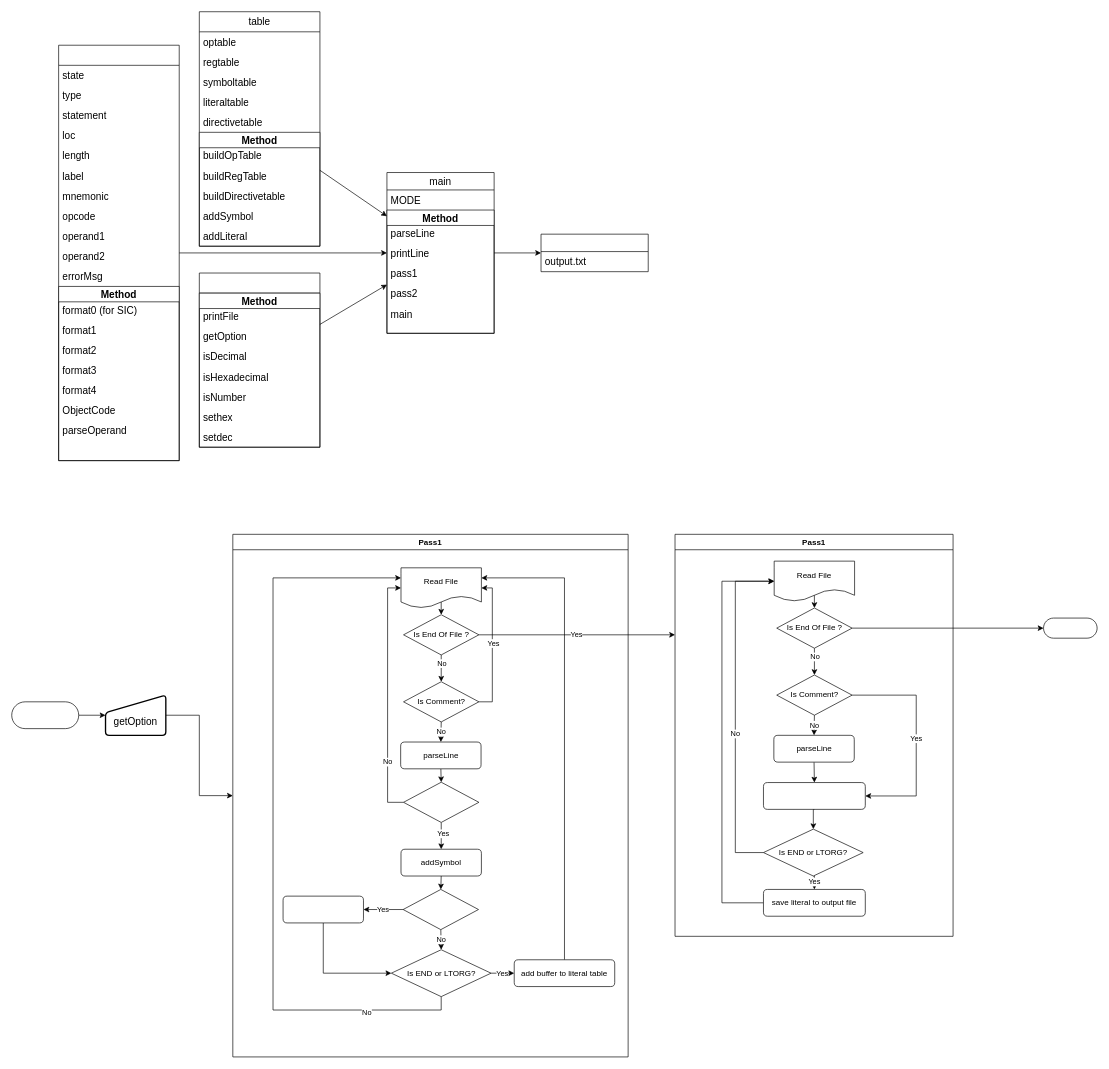
This 1109x1069 diagram has some shape labels left out. Here are the shapes that lost their labels. From the top down, the box of each, then its label:
(58, 45, 179, 461): SICXE
(540, 233, 648, 272): result
(199, 272, 320, 447): util
(1043, 617, 1097, 638): End
(11, 701, 79, 729): start
(403, 782, 479, 822): Has Label?
(763, 782, 865, 809): save result to output file
(282, 895, 363, 923): add literal to buffer
(402, 889, 479, 930): Has Literal?
